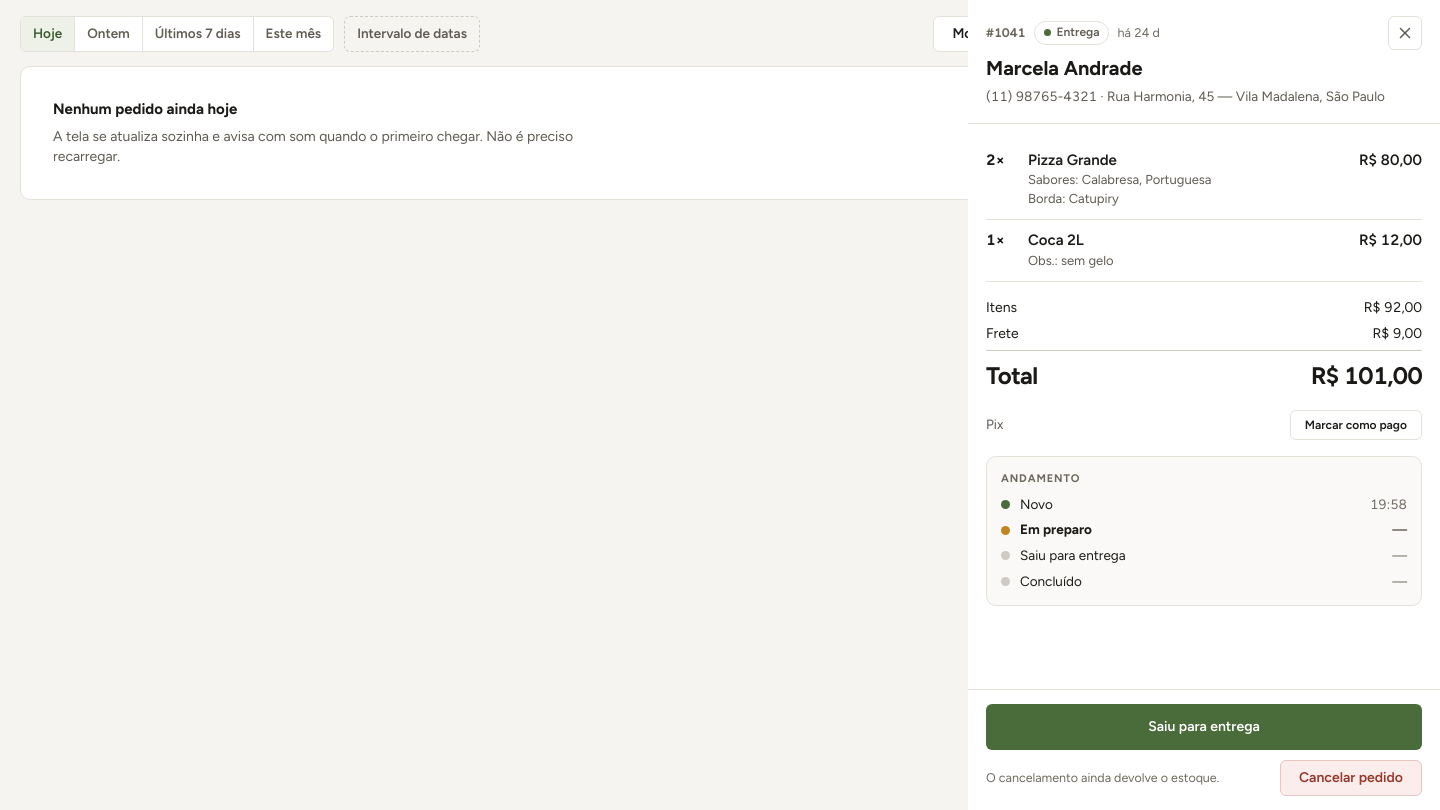
Test case: OrderDrawer › em preparo, cancelar devolve o estoque — e o texto diz isso
Step 1. Click the button "Cancelar pedido" → (1351,778), box [1280,760,1422,796]
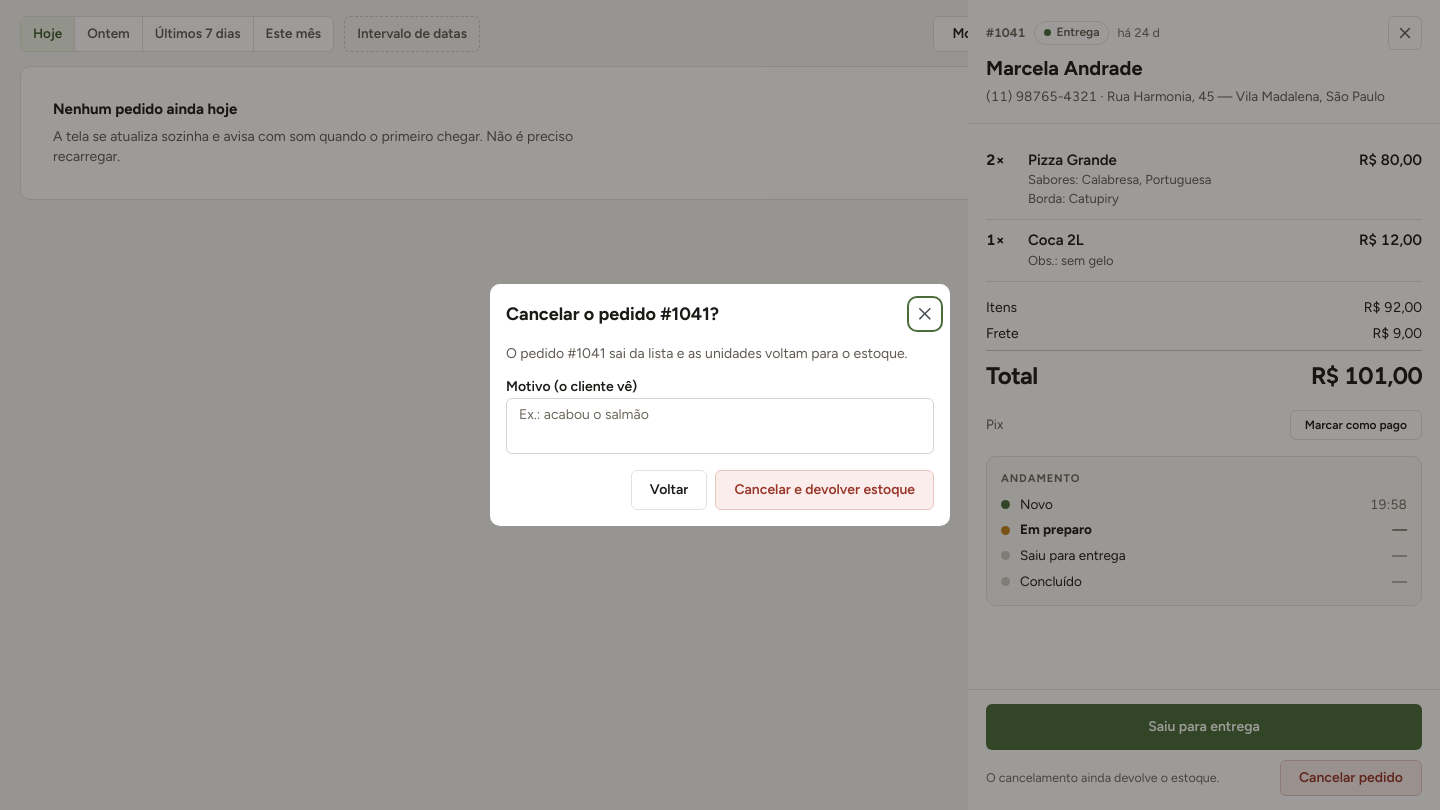
Now the button "Cancelar e devolver estoque" is shown, box [715,470,934,510]
